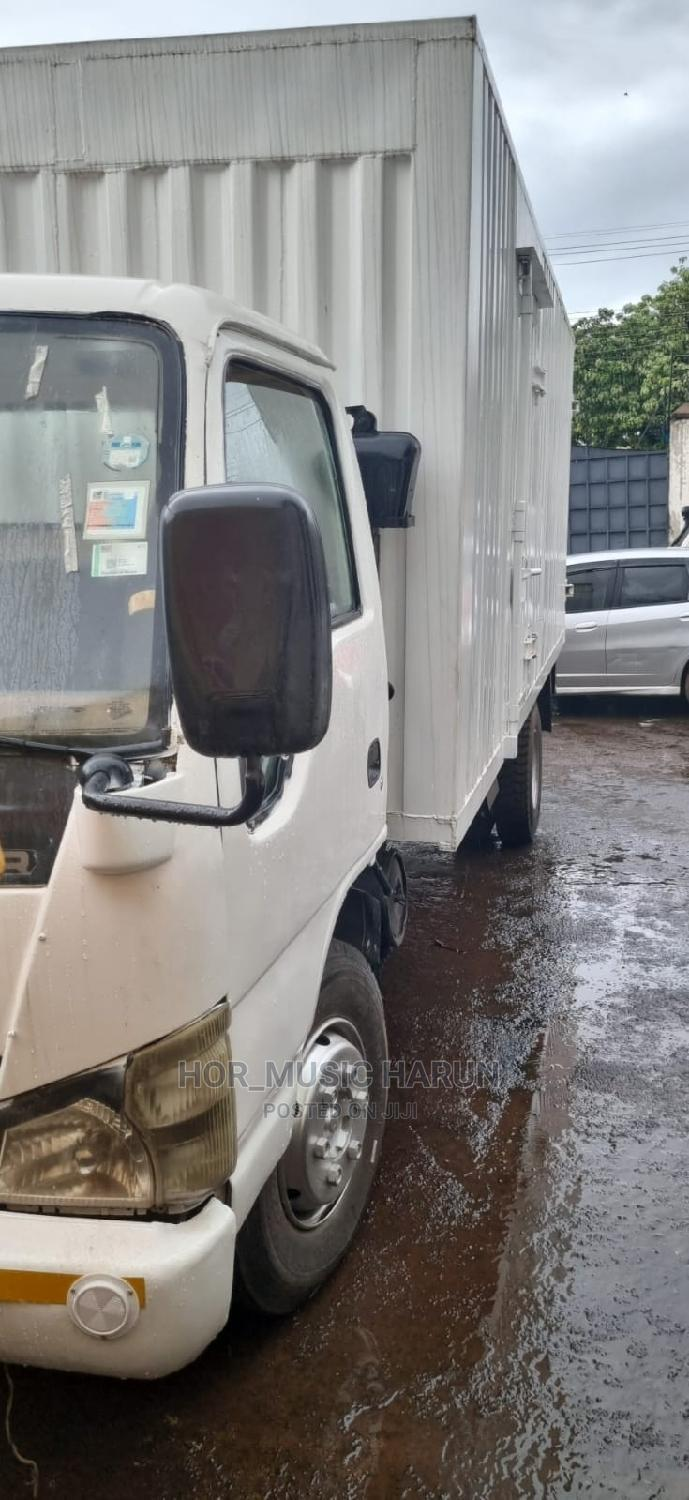car: (557, 547, 689, 701)
truck: (1, 21, 581, 1384)
